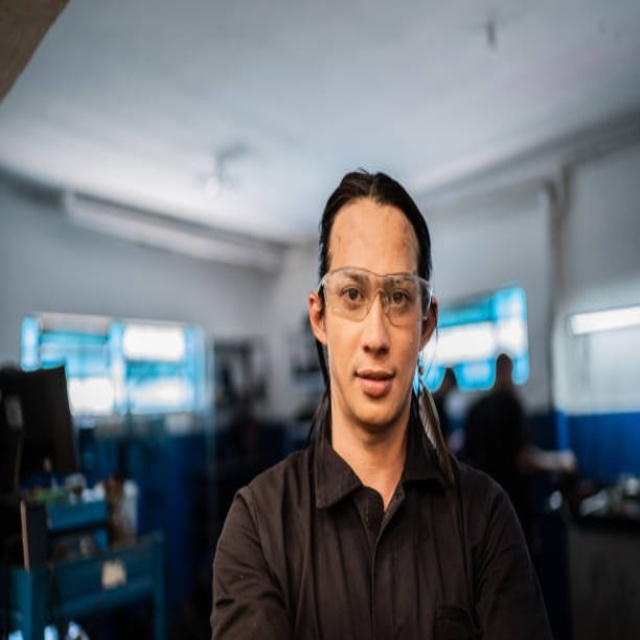Gafas: (318, 267, 432, 325)
Sin_mascara: (347, 360, 397, 408)
